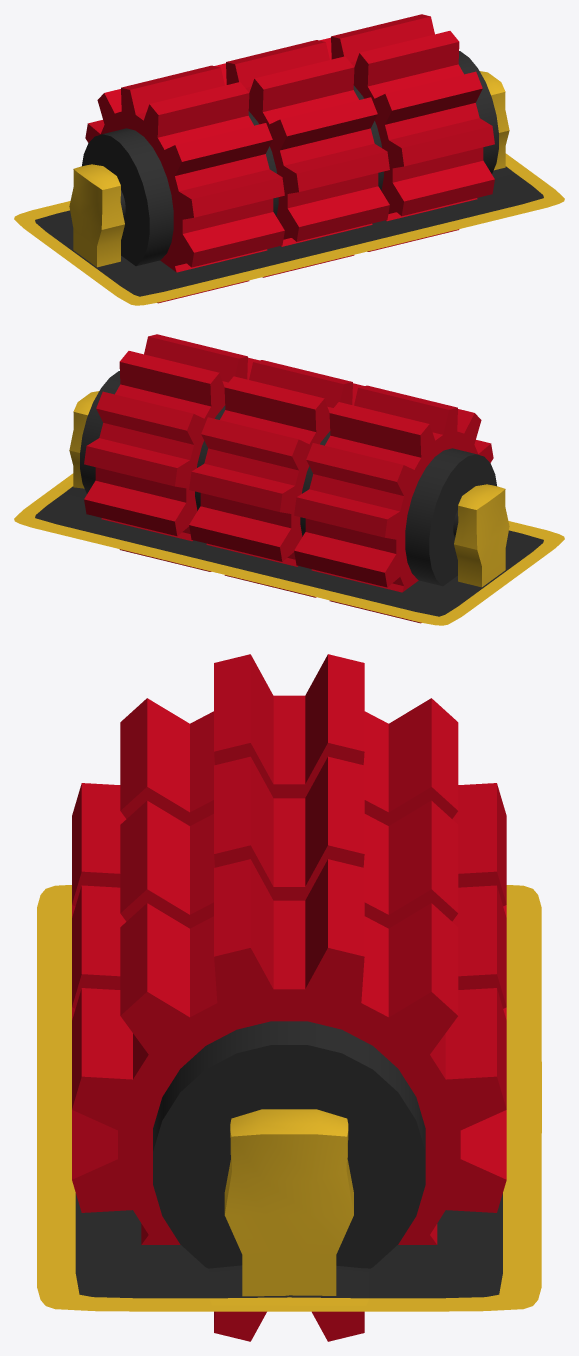
File: Shredder_small.fbx
The picture shows the model from 3 angles, top to bottom: view 1: azimuth 30°, elevation 25°; view 2: azimuth 150°, elevation 25°; view 3: azimuth 270°, elevation 25°; orthographic projection. The views are drawn at different scales.
Parts seen in each view (by area): view 1: Gear.005, Plane.001, Gear.004; view 2: Gear.005, Plane.001, Gear.004; view 3: Gear.005, Plane.001, Gear.004.
Part boxes in pixels (<box>): Gear.005: <box>82,14,498,303</box>; Plane.001: <box>14,153,564,305</box>; Gear.004: <box>69,71,509,267</box>; Gear.005: <box>80,334,496,623</box>; Plane.001: <box>14,473,564,625</box>; Gear.004: <box>69,391,509,587</box>; Gear.005: <box>72,654,506,1341</box>; Plane.001: <box>37,885,541,1311</box>; Gear.004: <box>224,1109,353,1296</box>.
Bounding box in the file's own units: 539 × 231 × 269.
